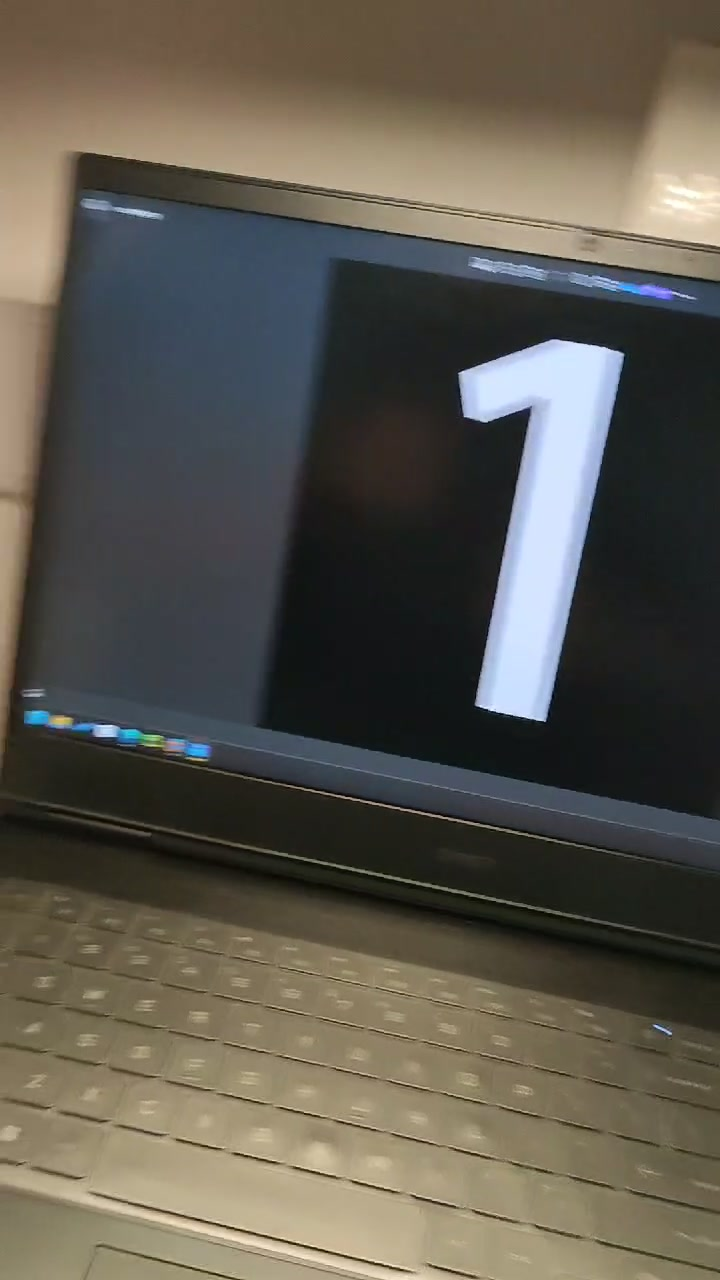one: (402, 296, 612, 757)
